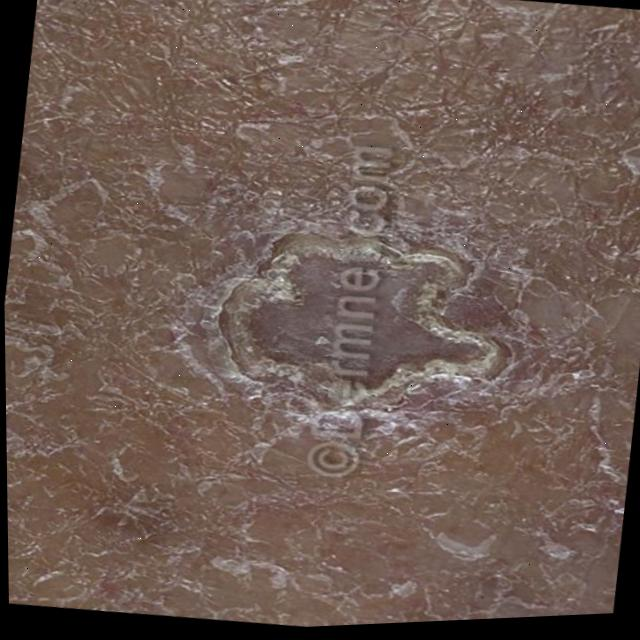Eczema: (208, 187, 484, 418)
